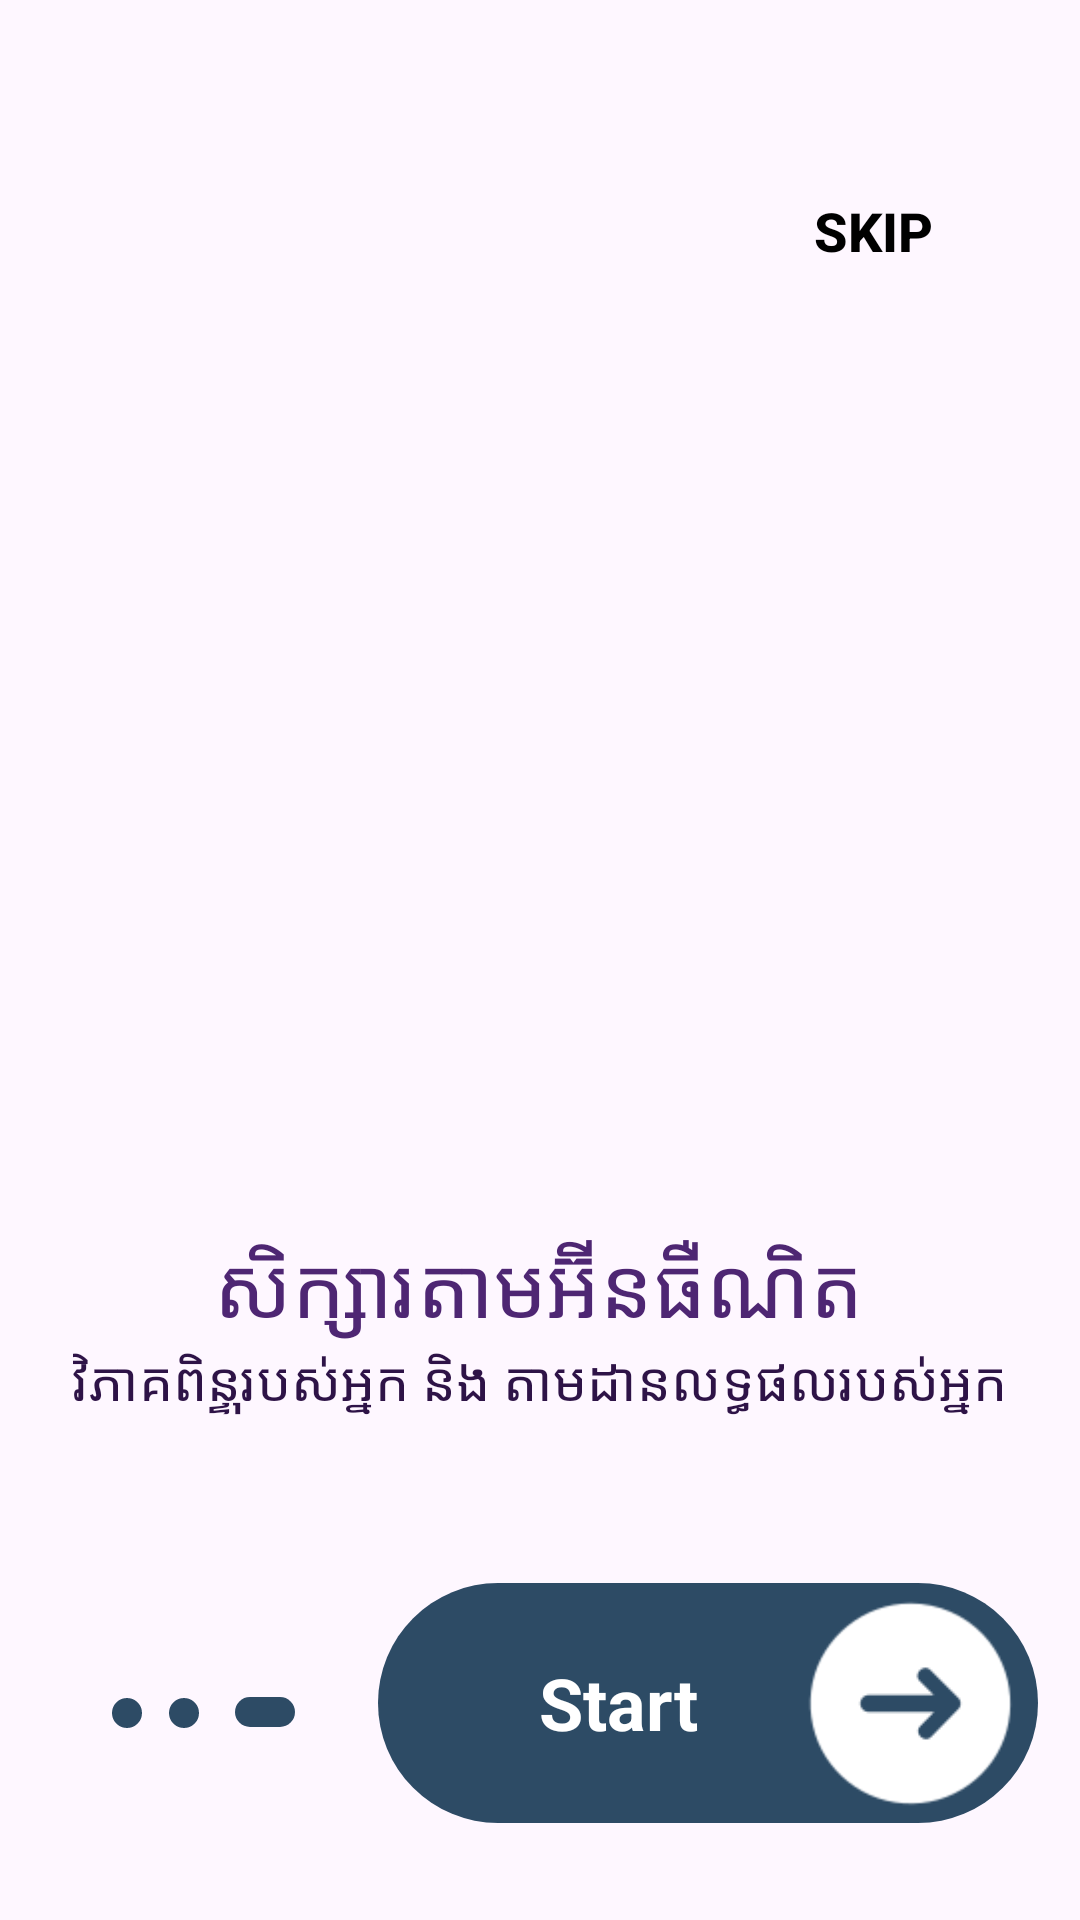

Screen size 1080*1920. Icon name, then its center in pixels as (x,y):
Next intro screen: (910,1703)
